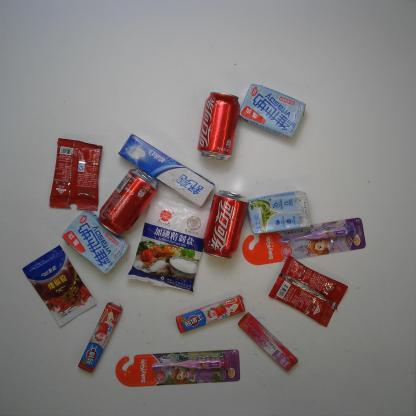Candy: (238, 311, 298, 373), (78, 301, 122, 374), (174, 294, 246, 333)
Drink: (98, 167, 160, 237), (196, 90, 241, 162), (203, 189, 249, 259)
Instant Drink: (269, 255, 349, 328), (48, 137, 104, 211)
Milk: (61, 209, 131, 275), (239, 83, 306, 139), (247, 190, 311, 234)
Personal Hygiene: (117, 132, 215, 208), (242, 217, 366, 266), (115, 349, 240, 387)
Seasoner: (126, 192, 212, 292), (22, 245, 98, 328)
